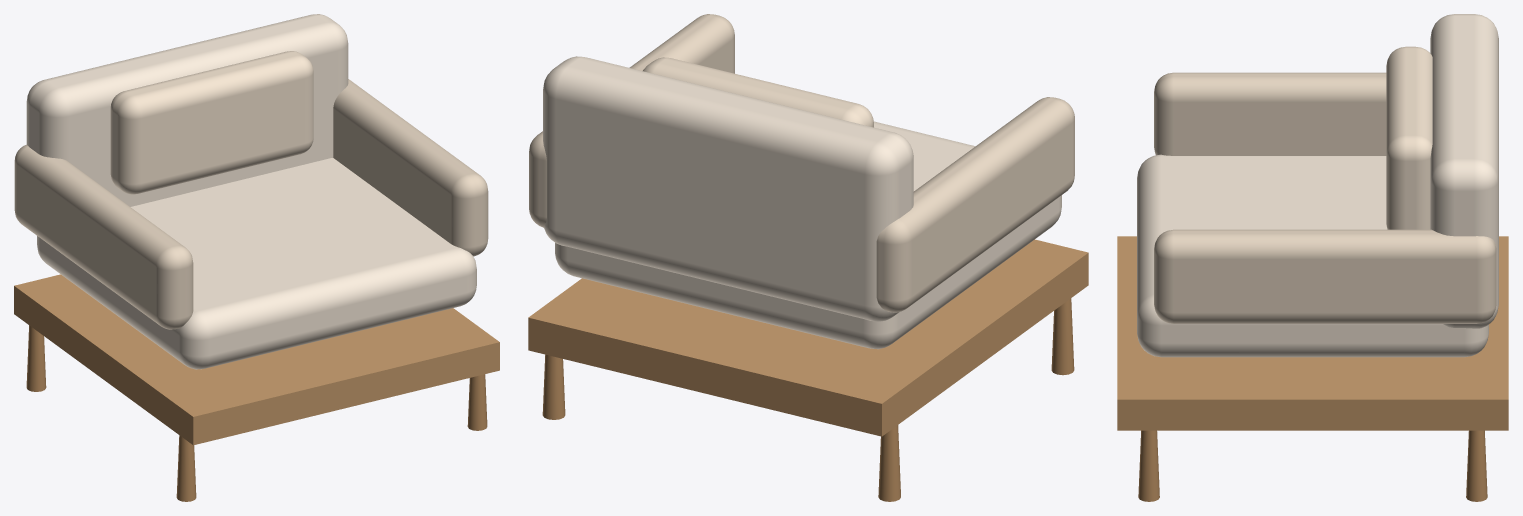
File: armchair.glb
3 views of the same model, side by side, from view 1: azimuth 30°, elevation 25°; view 2: azimuth 150°, elevation 25°; view 3: azimuth 270°, elevation 25° (orthographic). The views are drawn at different scales.
Parts seen in each view (by area): view 1: material-2-upholstery, material-1-frame, material-3-accent, material-4-cushion, material-0-leg; view 2: material-2-upholstery, material-1-frame, material-3-accent, material-4-cushion, material-0-leg; view 3: material-3-accent, material-2-upholstery, material-1-frame, material-4-cushion, material-0-leg.
Boxes of the visible parts, box(x1,y1,x2,y2) form: material-2-upholstery: box(26, 14, 476, 369); material-1-frame: box(14, 274, 499, 445); material-3-accent: box(14, 79, 488, 329); material-4-cushion: box(110, 51, 313, 194); material-0-leg: box(26, 325, 487, 501); material-2-upholstery: box(543, 56, 1061, 349); material-1-frame: box(528, 239, 1088, 436); material-3-accent: box(529, 14, 1074, 312); material-4-cushion: box(643, 57, 873, 127); material-0-leg: box(542, 298, 1074, 501); material-3-accent: box(1154, 72, 1496, 323); material-2-upholstery: box(1137, 14, 1498, 357); material-1-frame: box(1117, 236, 1508, 430); material-4-cushion: box(1386, 46, 1432, 229); material-0-leg: box(1138, 430, 1487, 501).
Size of the model in its own units: 0.85 by 0.75 by 0.8.
